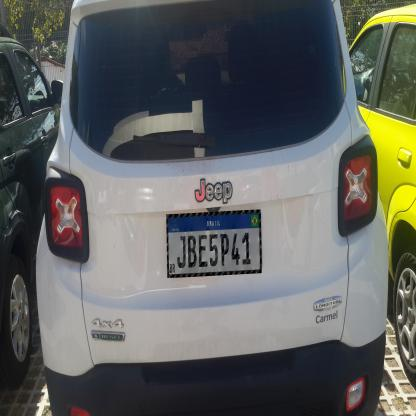PlacaM: (166, 210, 262, 278)
